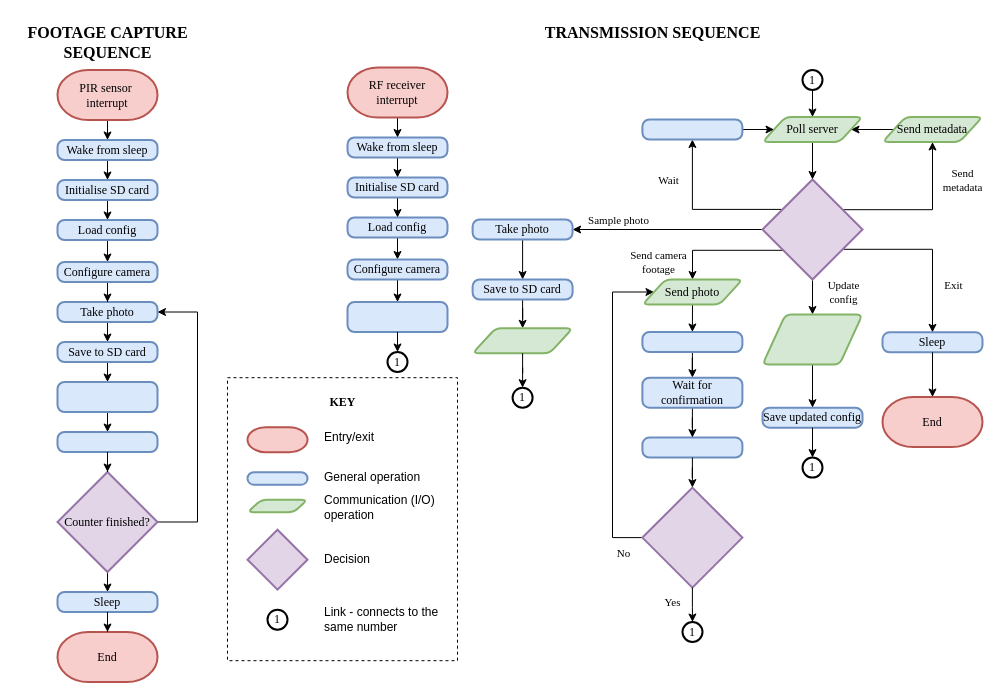
The diagram is 1000 pixels wide and 700 high, and some of its shapes have lost their labels. The centre of each missing label's shape, as x and y in pixels:
All photos sent?: point 692,537
Connect to receiver access point: point 397,316
Delete file: point 692,447
Increment counter: point 107,441
Instruction: point 812,229
Receive updated settings: point 812,339
Send sample: point 522,340
Update metadata: point 692,341
Update system metadata: point 107,396
Wait 10 seconds: point 692,129
